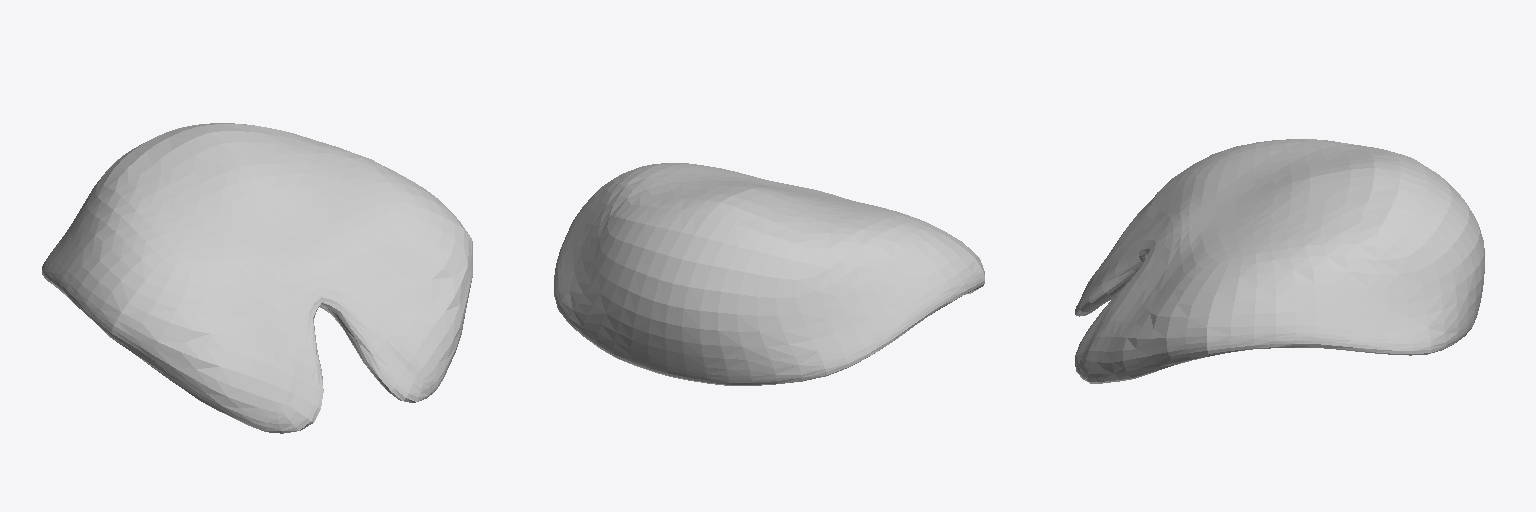
Rendered from Collar.OBJ.
3 renders of one model, left to right at view 1: azimuth 30°, elevation 25°; view 2: azimuth 150°, elevation 25°; view 3: azimuth 270°, elevation 25°, orthographic.
Parts seen in each view (by area): view 1: Group59834; view 2: Group59834; view 3: Group59834.
Part boxes in pixels (bbox=[...]): Group59834: bbox=[42, 123, 472, 433]; Group59834: bbox=[554, 163, 984, 385]; Group59834: bbox=[1075, 139, 1484, 383].
Size of the model in its own units: 13.32 by 6.08 by 12.81.